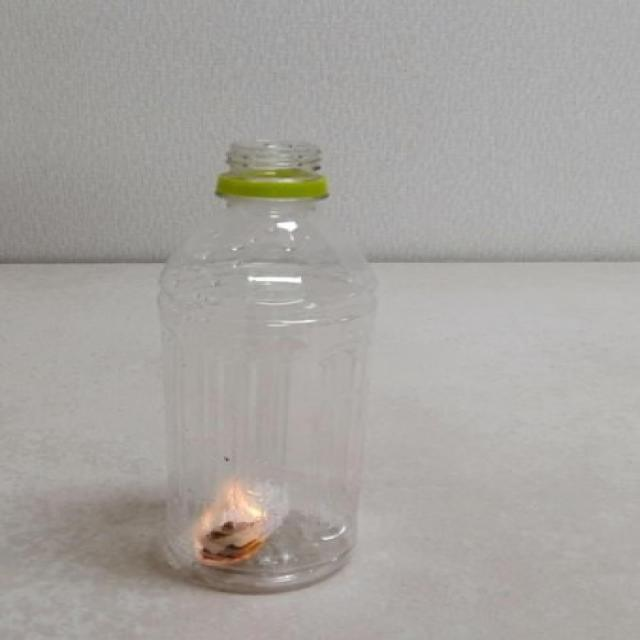plastic bottle: (154, 142, 356, 594)
